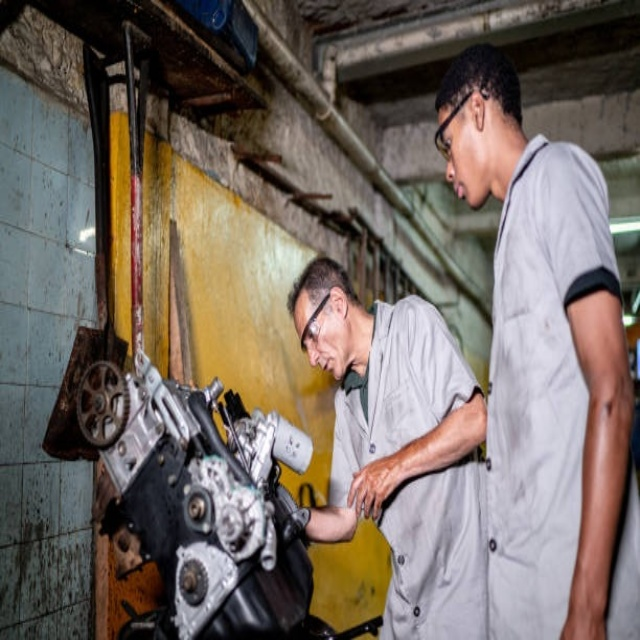Gafas: (434, 88, 484, 158), (301, 292, 334, 353)
Sin_guantes: (345, 454, 399, 525)
Sin_mascara: (451, 177, 476, 210), (318, 356, 342, 380)
